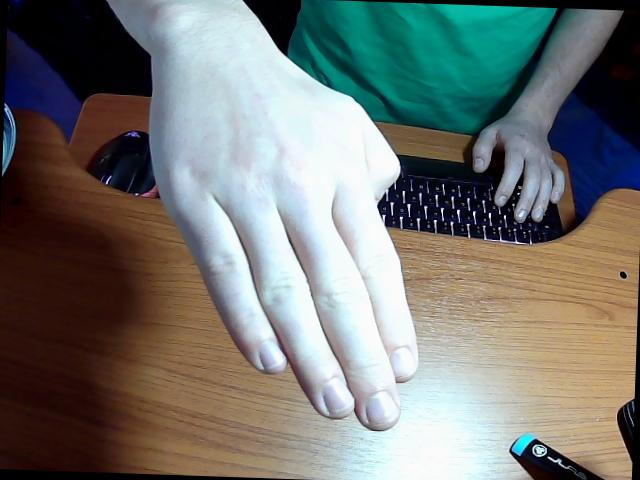paper: (109, 0, 419, 429)
